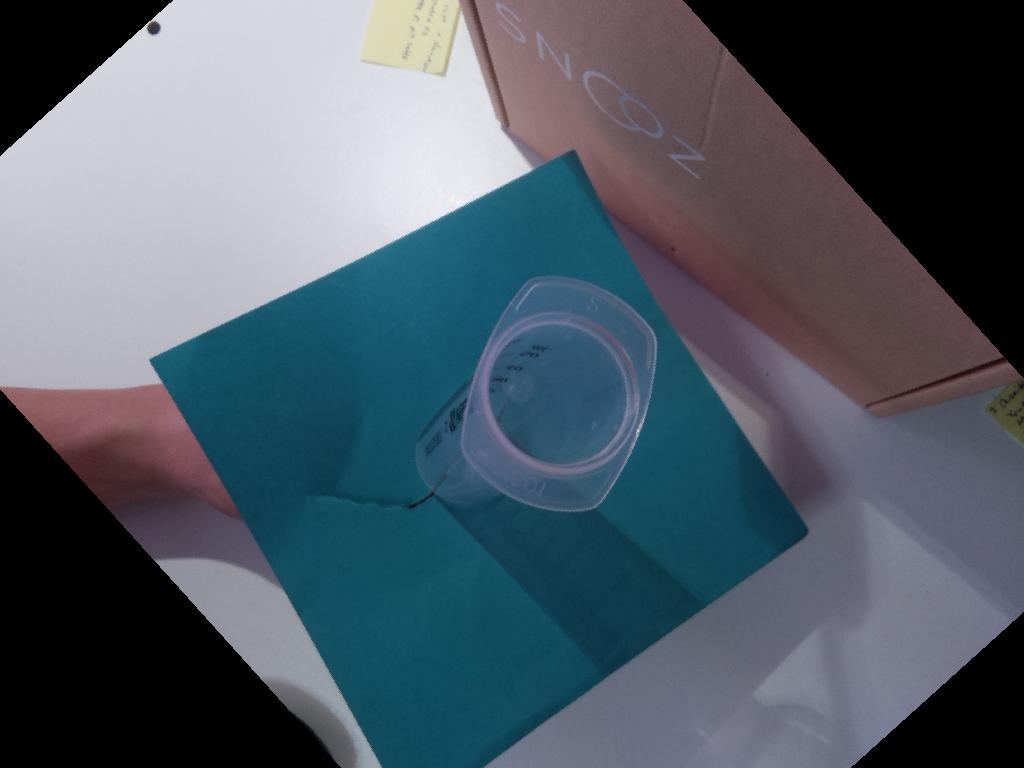clean: (458, 277, 658, 515)
